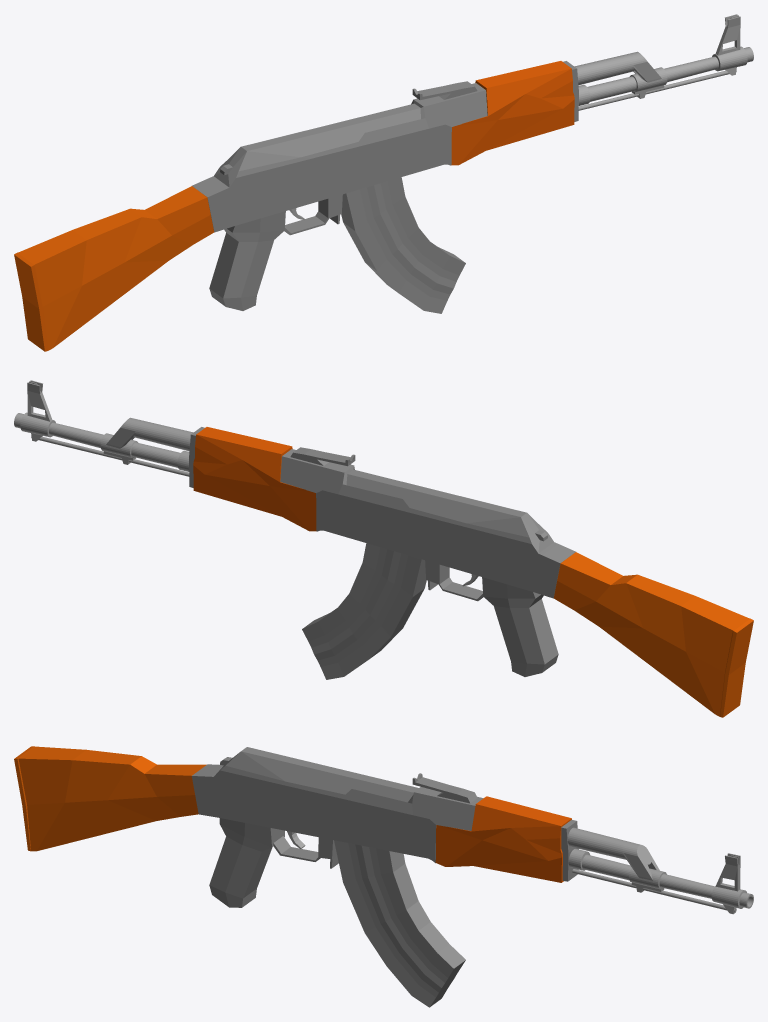
File: ак-47Раскрашенная.fbx
3 renders of one model, top to bottom at view 1: azimuth 30°, elevation 25°; view 2: azimuth 150°, elevation 25°; view 3: azimuth 330°, elevation 25°, orthographic.
Visible parts, largest first — view 1: Куб, Куб.001, Куб.006, Куб.007, Куб.002, Цилиндр.001, Цилиндр, Куб.003, Куб.012, Цилиндр.002, Куб.011; view 2: Куб, Куб.001, Куб.006, Куб.007, Куб.002, Цилиндр.001, Цилиндр, Куб.003, Куб.012, Цилиндр.002, Куб.011; view 3: Куб, Куб.001, Куб.006, Куб.007, Куб.002, Цилиндр.001, Цилиндр, Куб.003, Куб.012, Цилиндр.002, Куб.011, Куб.008.
Part boxes in pixels (x1,y1,x2,y2): Куб: [192, 83, 487, 232]; Куб.001: [14, 186, 214, 351]; Куб.006: [341, 177, 465, 313]; Куб.007: [451, 61, 574, 165]; Куб.002: [209, 211, 285, 310]; Цилиндр.001: [578, 46, 753, 105]; Цилиндр: [574, 51, 661, 85]; Куб.003: [284, 194, 342, 235]; Куб.012: [412, 81, 477, 100]; Цилиндр.002: [578, 70, 736, 110]; Куб.011: [715, 14, 740, 55]; Куб: [280, 449, 575, 598]; Куб.001: [553, 552, 753, 717]; Куб.006: [302, 543, 426, 679]; Куб.007: [193, 427, 316, 531]; Куб.002: [482, 577, 558, 676]; Цилиндр.001: [14, 412, 189, 471]; Цилиндр: [106, 417, 193, 451]; Куб.003: [425, 560, 483, 601]; Куб.012: [290, 447, 355, 466]; Цилиндр.002: [31, 436, 189, 476]; Куб.011: [27, 380, 52, 421]; Куб: [192, 747, 483, 863]; Куб.001: [14, 746, 206, 851]; Куб.006: [334, 840, 465, 1007]; Куб.007: [435, 796, 571, 882]; Куб.002: [209, 818, 284, 907]; Цилиндр.001: [568, 848, 753, 908]; Цилиндр: [568, 827, 659, 880]; Куб.003: [273, 836, 337, 861]; Куб.012: [412, 773, 477, 803]; Цилиндр.002: [572, 869, 736, 912]; Куб.011: [715, 853, 740, 891]; Куб.008: [561, 820, 578, 881].
Size of the model in its own units: 489 by 143 by 19.81.
